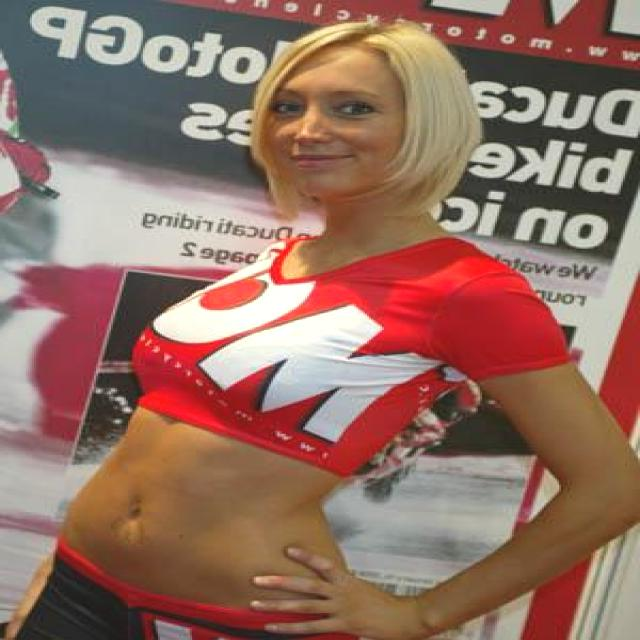no_helmet: (264, 25, 464, 81)
no_mask: (274, 117, 416, 194)
no_vest: (62, 230, 564, 560)
person: (0, 21, 640, 640)
